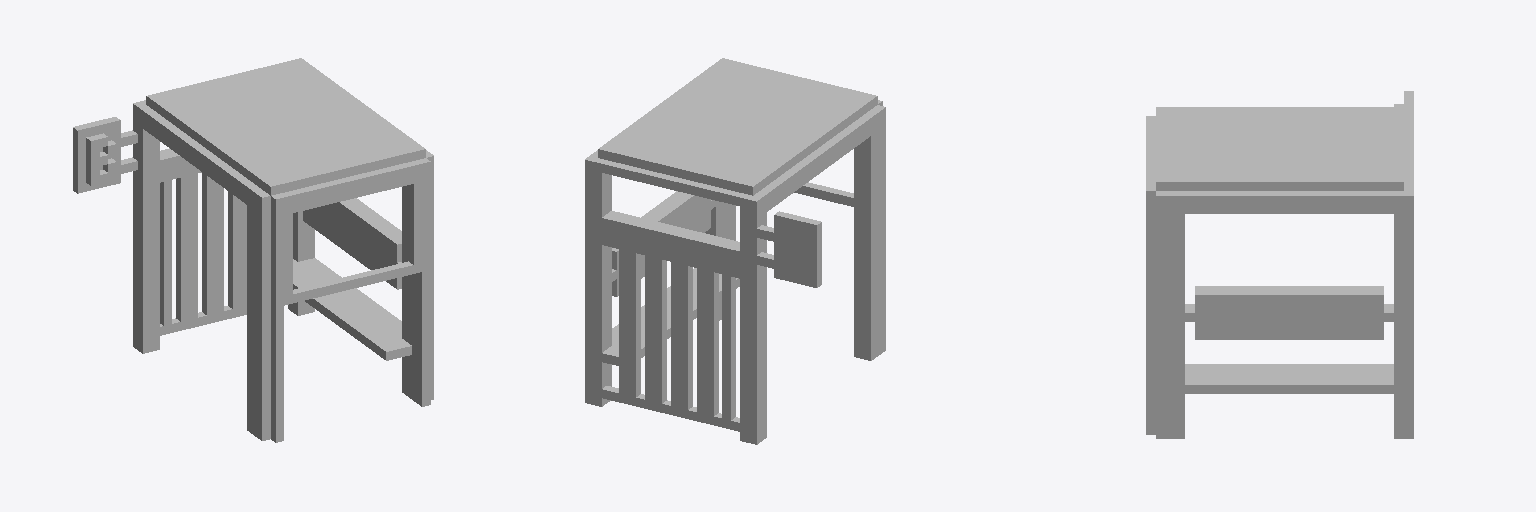
Rendered from BusStation.obj.
3 views of the same model, side by side, from view 1: azimuth 30°, elevation 25°; view 2: azimuth 150°, elevation 25°; view 3: azimuth 270°, elevation 25° (orthographic).
Visible parts, largest first — view 1: object 1; view 2: object 1; view 3: object 1.
Part boxes in pixels (x1,y1,x2,y2): object 1: (73,58,433,442); object 1: (585,58,885,444); object 1: (1146,91,1413,438).
Bounding box in the file's own units: 2.7 × 2.8 × 2.7.